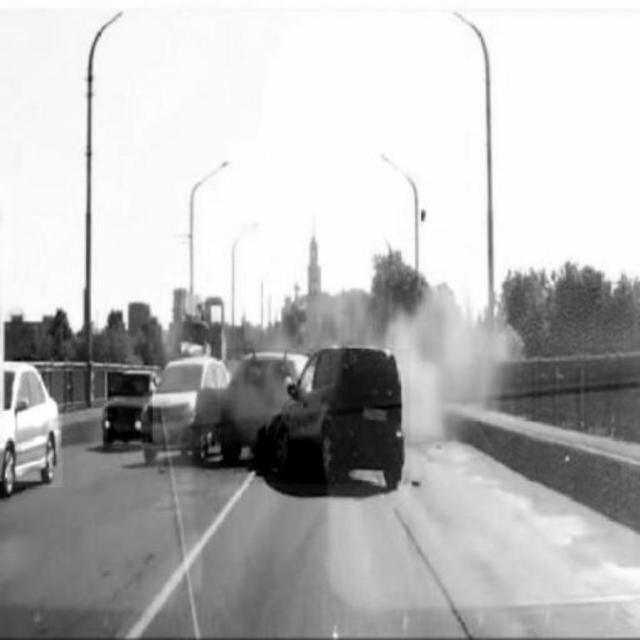accident: (220, 349, 410, 483)
vehicle: (5, 363, 62, 487), (146, 358, 219, 450), (107, 373, 153, 443)
